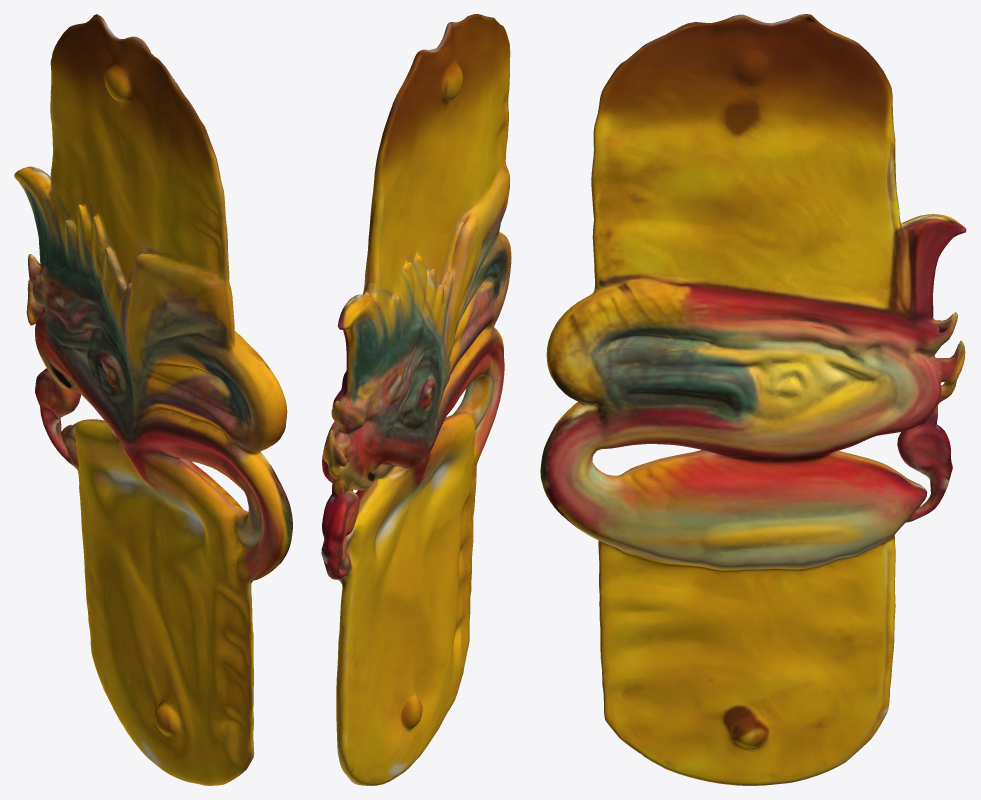
Rendered from shadowPuppetArm.glb.
The picture shows the model from 3 angles, left to right: view 1: azimuth 30°, elevation 25°; view 2: azimuth 150°, elevation 25°; view 3: azimuth 270°, elevation 25°; orthographic projection.
Size of the model in its own units: 0.2395 by 2 by 1.03.
1 material, 1 textured.
